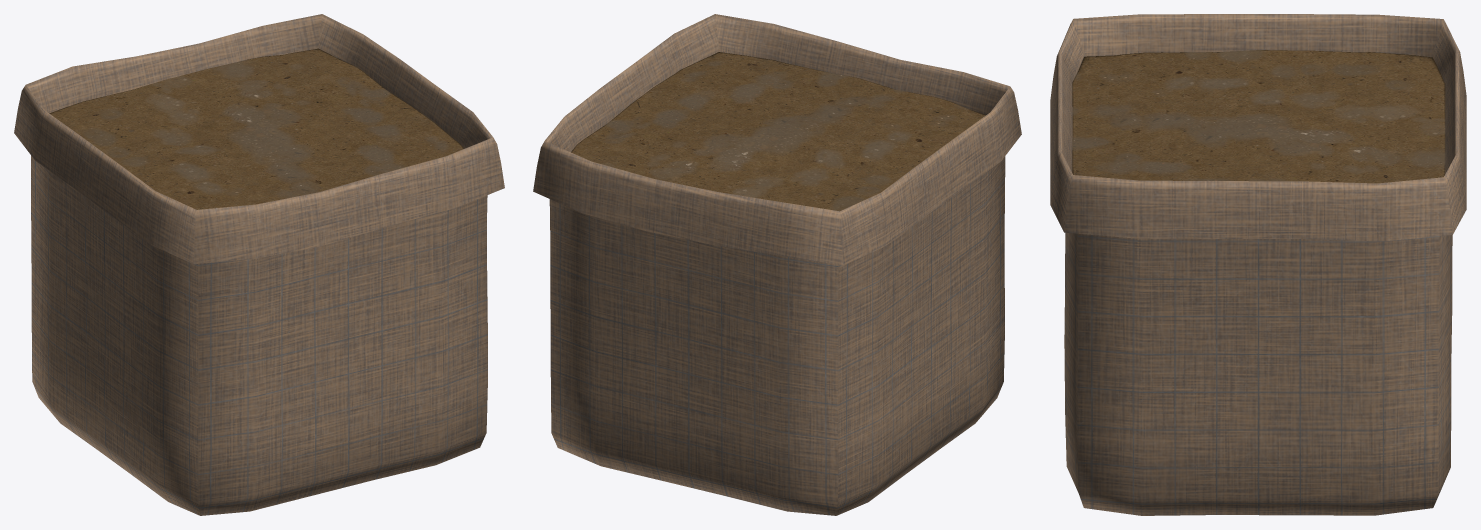
File: sandbags.glb
3 views of the same model, side by side, from view 1: azimuth 30°, elevation 25°; view 2: azimuth 150°, elevation 25°; view 3: azimuth 270°, elevation 25° (orthographic). The views are drawn at different scales.
Visible parts, largest first — view 1: Military Sandbag Barrier; view 2: Military Sandbag Barrier; view 3: Military Sandbag Barrier.
Part boxes in pixels (box(x1,y1,x2,y2)): Military Sandbag Barrier: box(14, 14, 504, 515); Military Sandbag Barrier: box(533, 14, 1021, 515); Military Sandbag Barrier: box(1050, 14, 1466, 515).
Size of the model in its own units: 1.1 by 1.03 by 1.1.
1 material, 1 textured.
